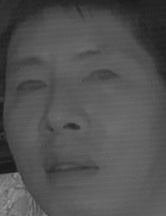eye: (80, 67, 119, 90), (14, 75, 48, 96)
mouth: (41, 148, 99, 187)
